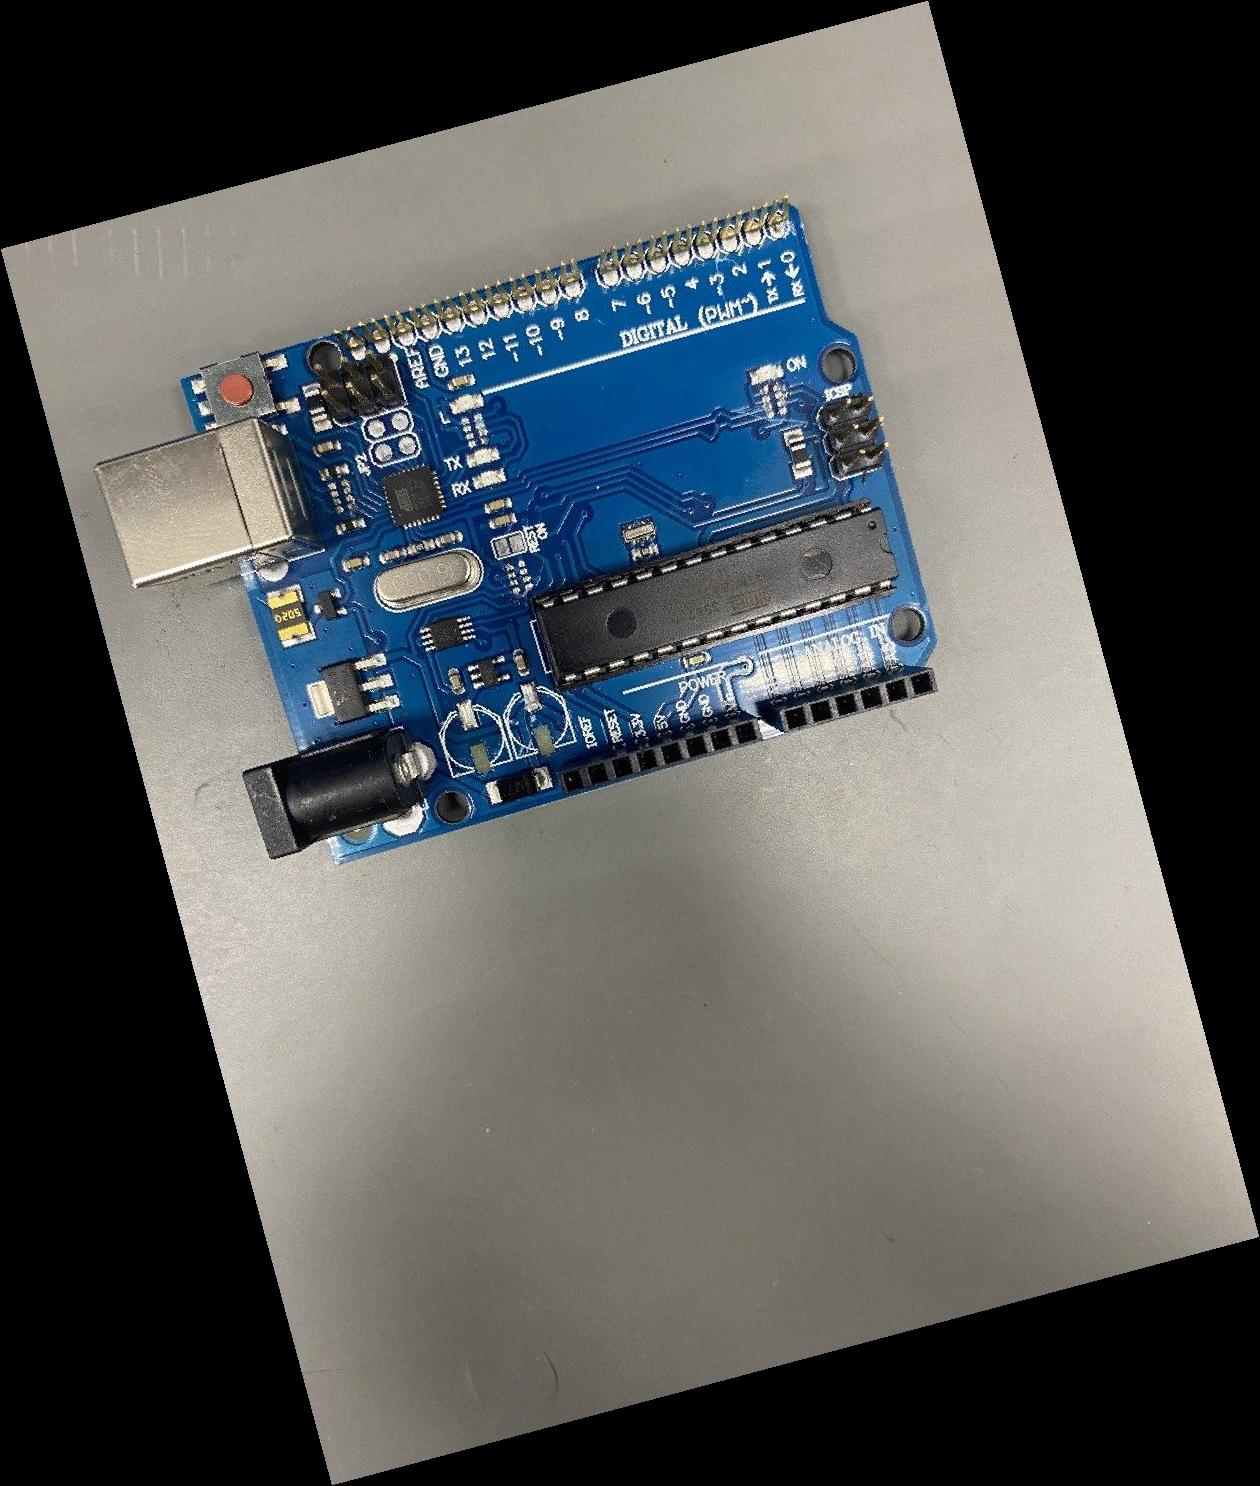ATmega328 chip: (532, 497, 899, 690)
Arduino board: (94, 196, 939, 865)
USB: (94, 416, 325, 594)
pins: (557, 709, 762, 797), (756, 664, 939, 734)
